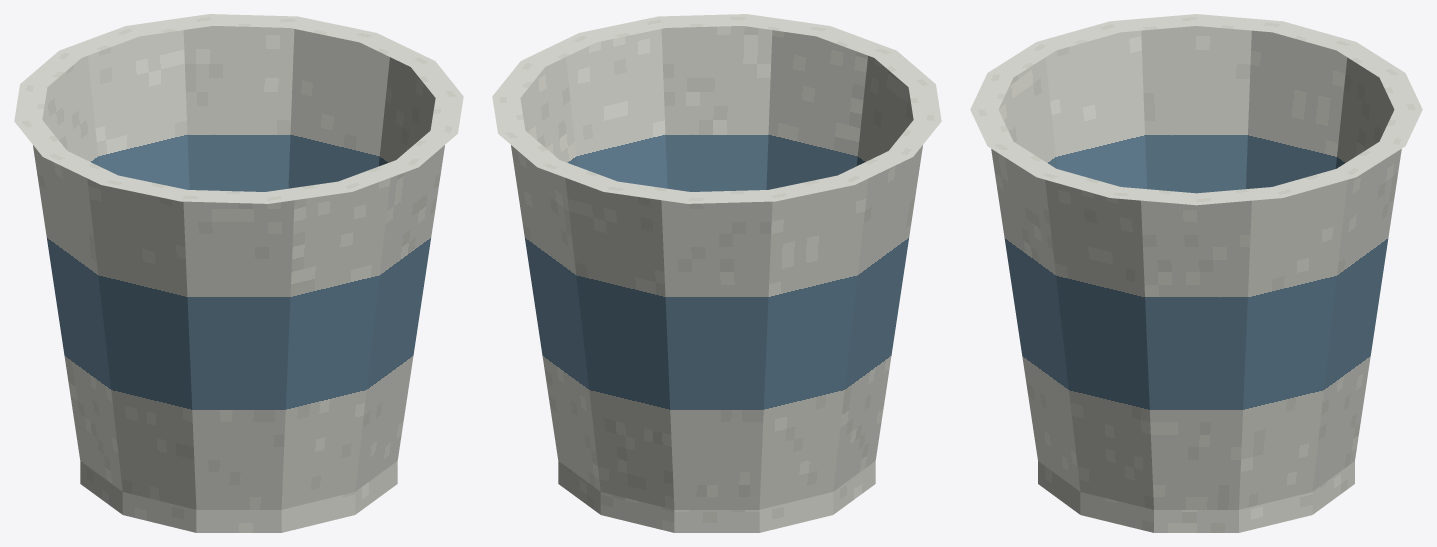
File: cup_plastic_yoghurt.glb
The picture shows the model from 3 angles, left to right: view 1: azimuth 30°, elevation 25°; view 2: azimuth 150°, elevation 25°; view 3: azimuth 270°, elevation 25°; orthographic projection.
Parts seen in each view (by area): view 1: block_flared cup, block_cup base, block_rolled lip 4, block_rolled lip 14, block_rolled lip 5, block_rolled lip 13, block_rolled lip 6, block_rolled lip 11, block_rolled lip 12, block_rolled lip 3, block_rolled lip 7, block_rolled lip 15 (+6 smaller); view 2: block_flared cup, block_cup base, block_rolled lip 1, block_rolled lip 11, block_rolled lip 10, block_rolled lip 2, block_rolled lip 9, block_rolled lip 4, block_rolled lip 3, block_rolled lip 12, block_rolled lip 0, block_rolled lip 8 (+6 smaller); view 3: block_flared cup, block_cup base, block_rolled lip 0, block_rolled lip 15, block_rolled lip 1, block_rolled lip 7, block_rolled lip 8, block_rolled lip 14, block_rolled lip 6, block_rolled lip 9, block_rolled lip 3, block_rolled lip 12 (+6 smaller).
Part boxes in pixels (x1=…): block_flared cup: x1=33, y1=26, x2=444, y2=509; block_cup base: x1=80, y1=461, x2=397, y2=532; block_rolled lip 4: x1=265, y1=181, x2=351, y2=203; block_rolled lip 14: x1=290, y1=16, x2=376, y2=42; block_rolled lip 5: x1=180, y1=190, x2=268, y2=203; block_rolled lip 13: x1=209, y1=14, x2=297, y2=27; block_rolled lip 6: x1=101, y1=175, x2=187, y2=201; block_rolled lip 11: x1=59, y1=26, x2=139, y2=57; block_rolled lip 12: x1=126, y1=14, x2=212, y2=36; block_rolled lip 3: x1=338, y1=160, x2=418, y2=191; block_rolled lip 7: x1=43, y1=151, x2=117, y2=184; block_rolled lip 15: x1=360, y1=33, x2=434, y2=66; block_flared cup: x1=511, y1=26, x2=922, y2=509; block_cup base: x1=558, y1=461, x2=875, y2=532; block_rolled lip 1: x1=579, y1=16, x2=665, y2=42; block_rolled lip 11: x1=604, y1=181, x2=690, y2=203; block_rolled lip 10: x1=687, y1=190, x2=775, y2=203; block_rolled lip 2: x1=658, y1=14, x2=746, y2=27; block_rolled lip 9: x1=768, y1=175, x2=854, y2=201; block_rolled lip 4: x1=816, y1=26, x2=896, y2=57; block_rolled lip 3: x1=743, y1=14, x2=829, y2=36; block_rolled lip 12: x1=537, y1=160, x2=617, y2=191; block_rolled lip 0: x1=521, y1=33, x2=595, y2=66; block_rolled lip 8: x1=838, y1=151, x2=912, y2=184; block_flared cup: x1=991, y1=26, x2=1401, y2=509; block_cup base: x1=1038, y1=461, x2=1354, y2=532; block_rolled lip 0: x1=1110, y1=187, x2=1196, y2=205; block_rolled lip 15: x1=1196, y1=187, x2=1282, y2=205; block_rolled lip 1: x1=1037, y1=169, x2=1120, y2=197; block_rolled lip 7: x1=1110, y1=14, x2=1196, y2=32; block_rolled lip 8: x1=1196, y1=14, x2=1282, y2=32; block_rolled lip 14: x1=1272, y1=169, x2=1355, y2=197; block_rolled lip 6: x1=1037, y1=21, x2=1120, y2=50; block_rolled lip 9: x1=1272, y1=21, x2=1355, y2=50; block_rolled lip 3: x1=970, y1=109, x2=1013, y2=146; block_rolled lip 12: x1=1379, y1=109, x2=1422, y2=146.
Size of the model in its own units: 0.08 by 0.0695 by 0.08.
Materials: 2 (2 with a texture image).
